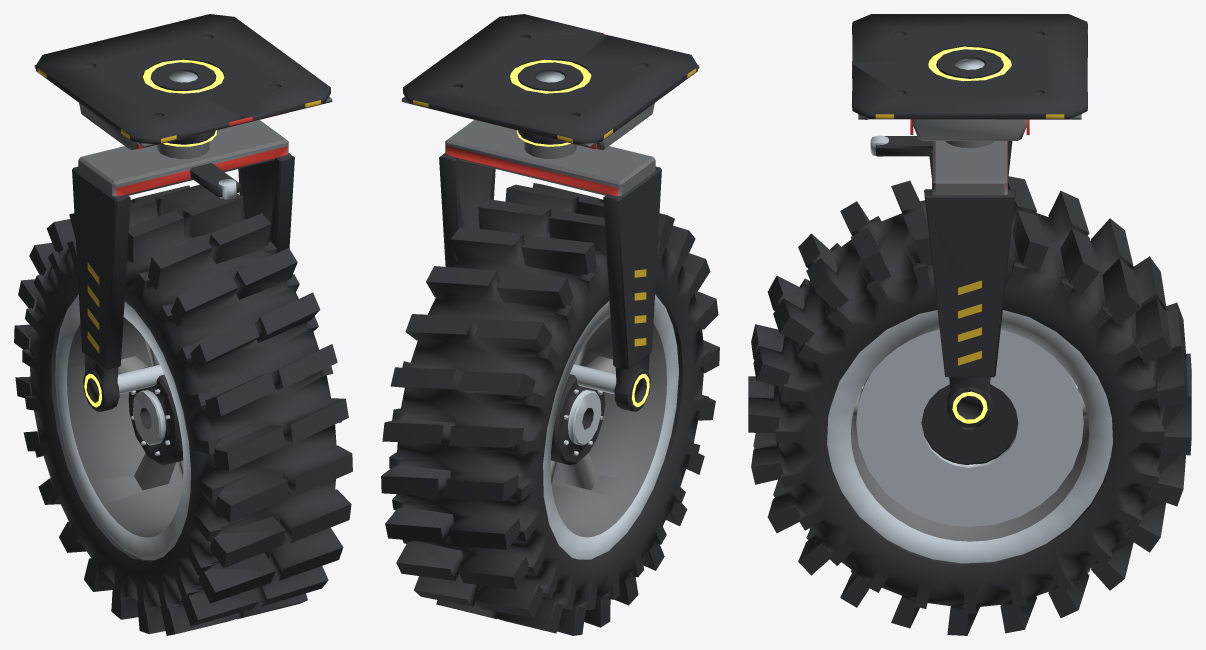
File: R4M_WheelL_Steer_Offroad_LOD1.fbx
3 renders of one model, left to right at view 1: azimuth 30°, elevation 25°; view 2: azimuth 150°, elevation 25°; view 3: azimuth 270°, elevation 25°, orthographic. The views are drawn at different scales.
Parts seen in each view (by area): view 1: R4M_WheelL_Steer_Offroad_Rotor_LOD1, R4M_WheelL_Steer_Offroad_Mount_LOD1, R4M_WheelL_Steer_Offroad_Knuckle_LOD1; view 2: R4M_WheelL_Steer_Offroad_Rotor_LOD1, R4M_WheelL_Steer_Offroad_Mount_LOD1, R4M_WheelL_Steer_Offroad_Knuckle_LOD1; view 3: R4M_WheelL_Steer_Offroad_Rotor_LOD1, R4M_WheelL_Steer_Offroad_Mount_LOD1, R4M_WheelL_Steer_Offroad_Knuckle_LOD1.
Boxes of the visible parts, box(x1,y1,x2,y2) form: R4M_WheelL_Steer_Offroad_Rotor_LOD1: box(14, 184, 352, 635); R4M_WheelL_Steer_Offroad_Mount_LOD1: box(34, 14, 332, 150); R4M_WheelL_Steer_Offroad_Knuckle_LOD1: box(72, 120, 294, 411); R4M_WheelL_Steer_Offroad_Rotor_LOD1: box(381, 183, 719, 635); R4M_WheelL_Steer_Offroad_Mount_LOD1: box(401, 14, 699, 150); R4M_WheelL_Steer_Offroad_Knuckle_LOD1: box(439, 120, 661, 411); R4M_WheelL_Steer_Offroad_Rotor_LOD1: box(748, 176, 1191, 635); R4M_WheelL_Steer_Offroad_Mount_LOD1: box(852, 14, 1087, 140); R4M_WheelL_Steer_Offroad_Knuckle_LOD1: box(870, 135, 1015, 427).
Size of the model in its own units: 0.5108 by 1.3 by 0.9599.
